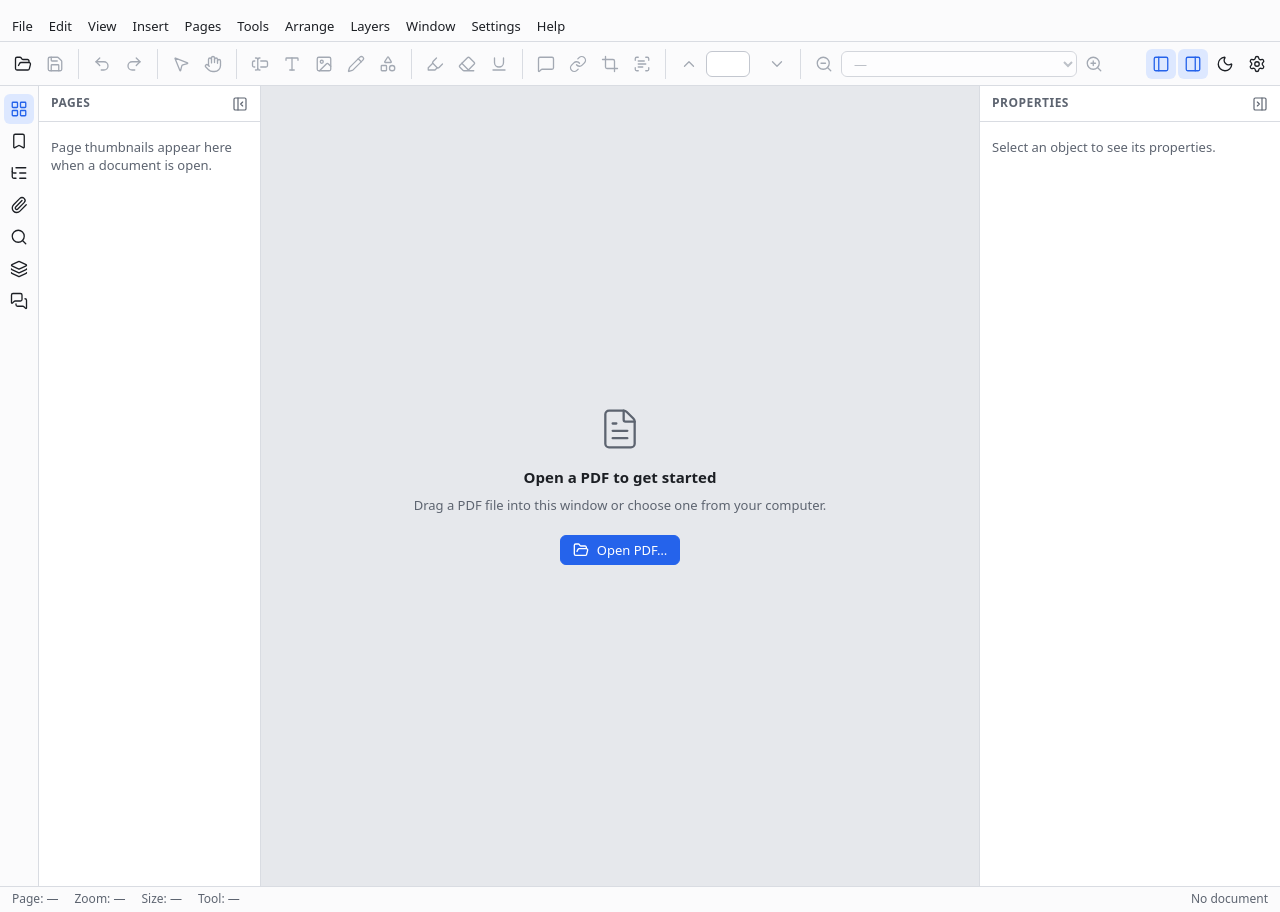
Scenario: application shell › switches sidebar tabs and remembers the selection
Click the tab named "Layers" at (19, 269), box x1=4 y1=254 x2=34 y2=284
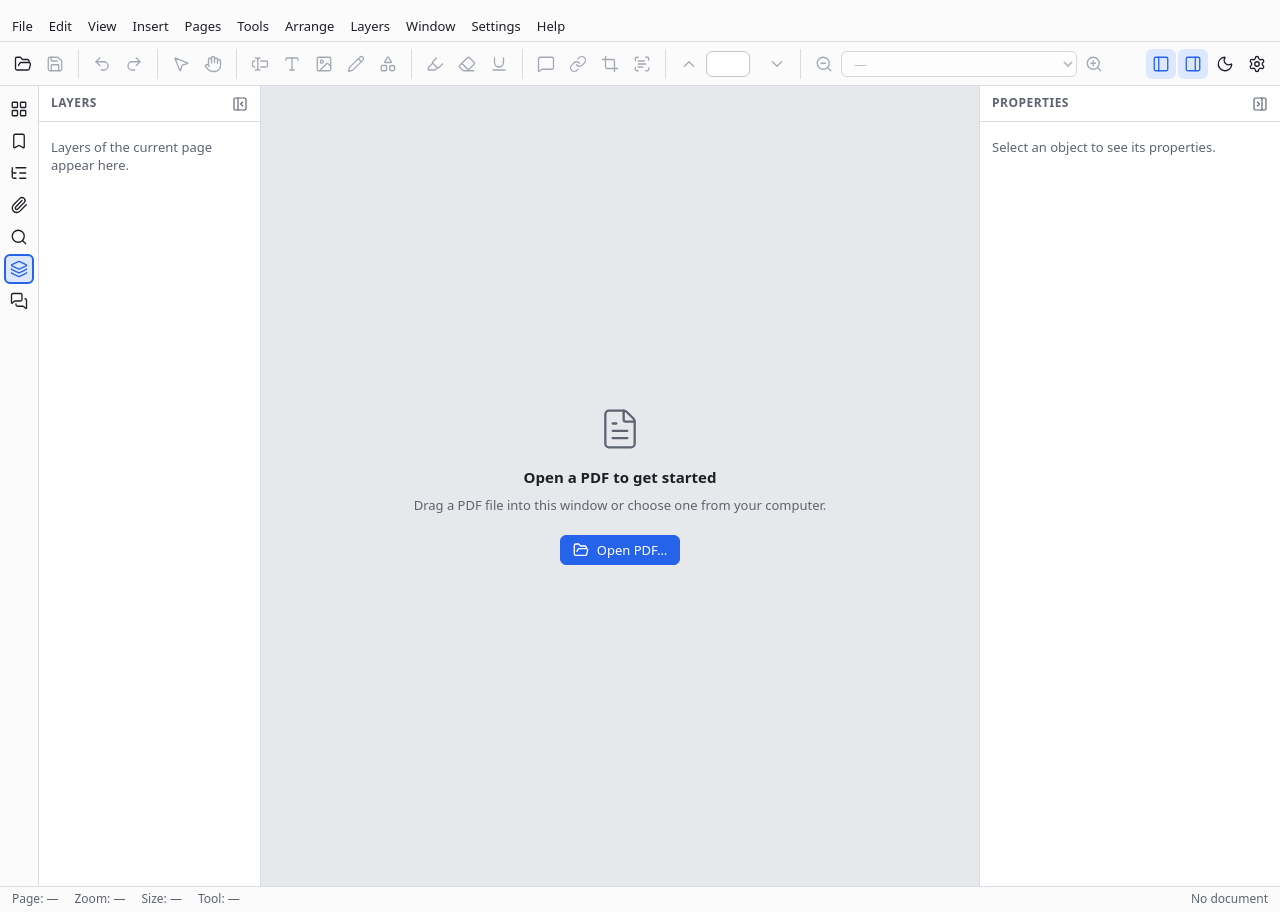
Result: the panel "Layers" is shown at x1=39 y1=86 x2=260 y2=886
